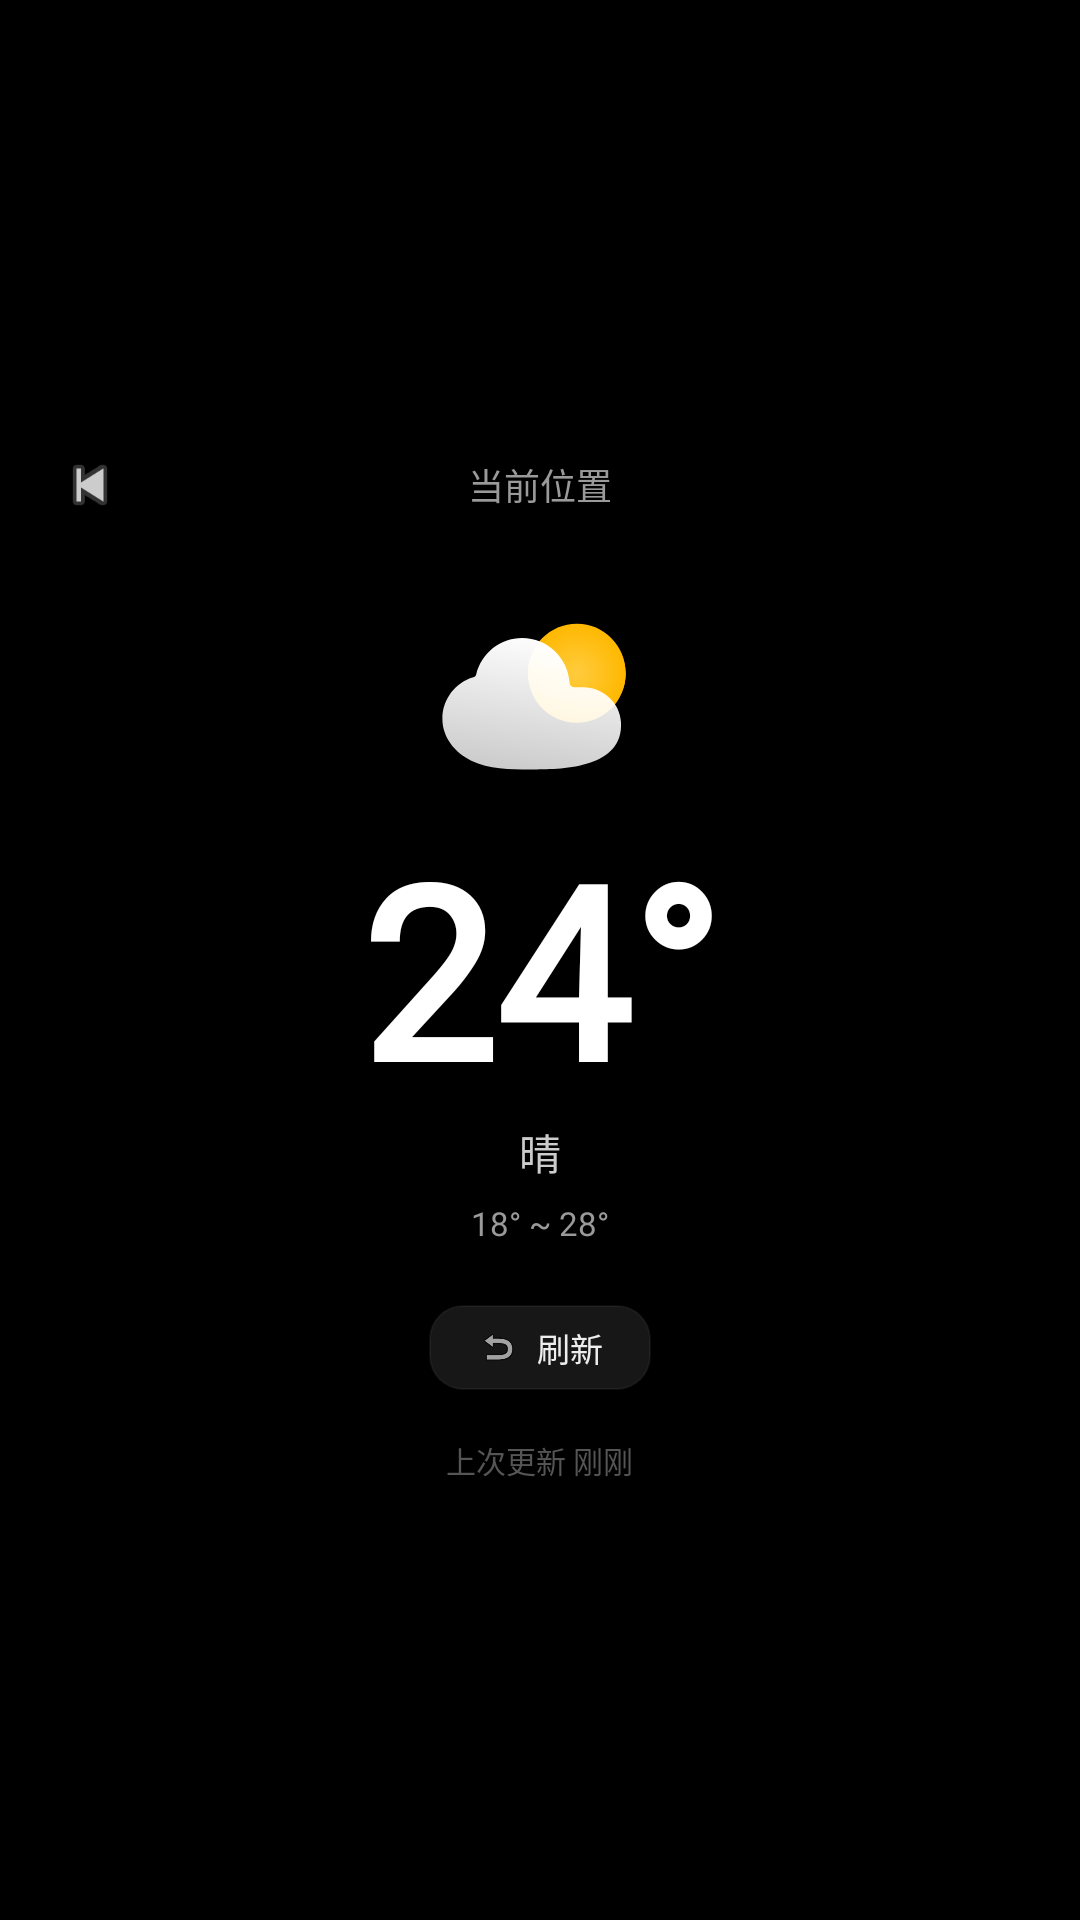

Screen size 1080 × 1920. Icon name, then its center in pixels as (x=x, y=y):
previous: (x=90, y=485)
revert: (x=498, y=1347)
weather: (x=534, y=696)
